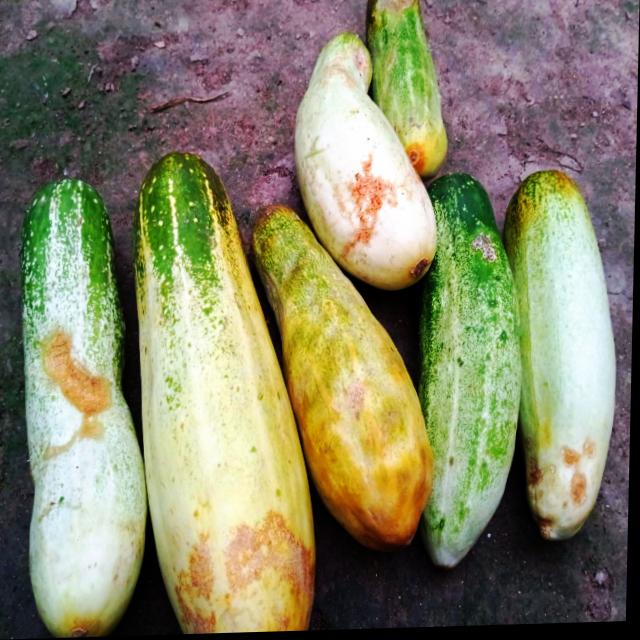Belly-Rot: (173, 510, 322, 636), (37, 325, 119, 466), (336, 155, 407, 268), (529, 435, 607, 525), (377, 0, 417, 17), (353, 51, 367, 77)
